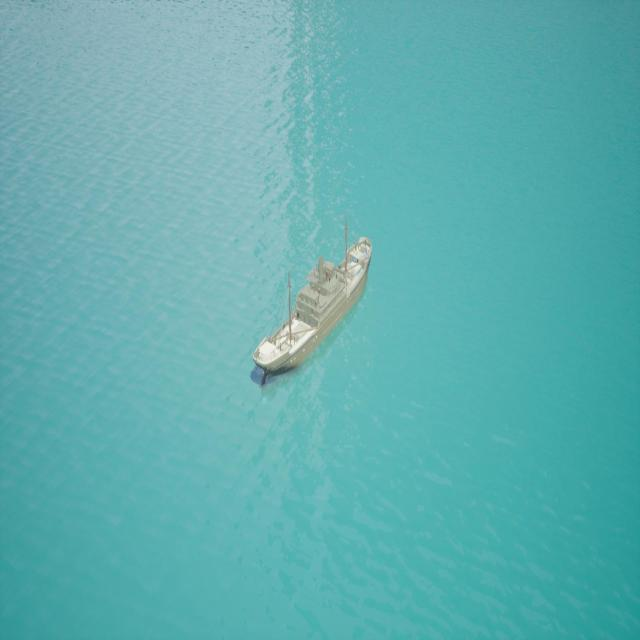fishing ship: (249, 239, 373, 380)
